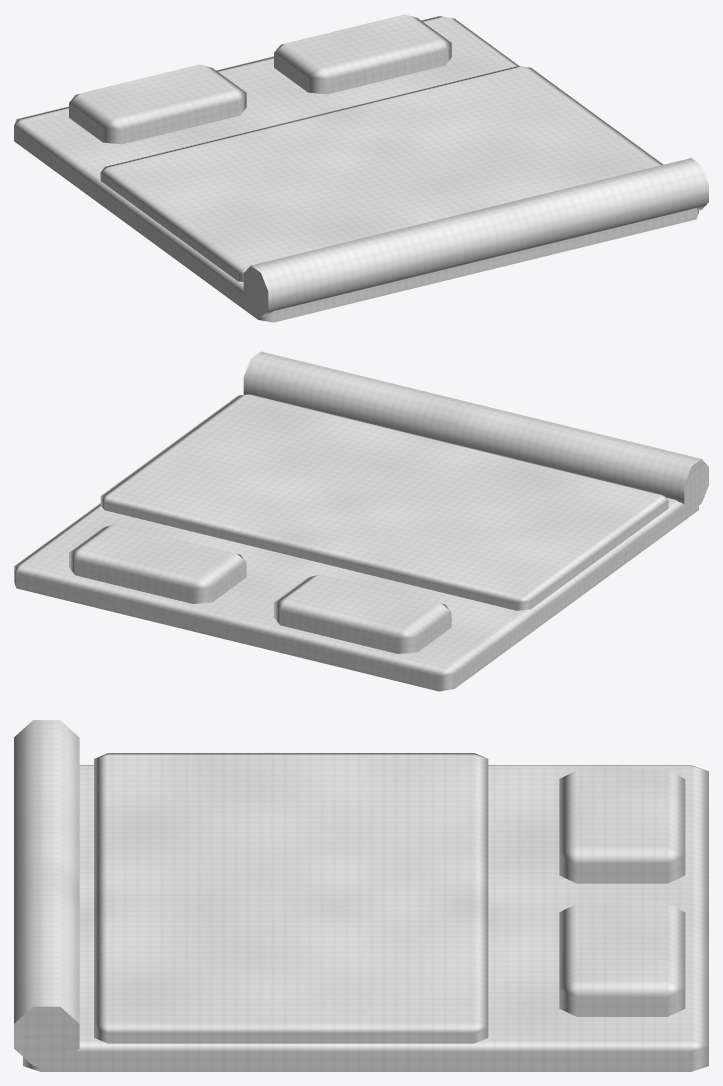
The model's file is bedroll_double.obj.
3 views of the same model, one above another, from view 1: azimuth 30°, elevation 25°; view 2: azimuth 150°, elevation 25°; view 3: azimuth 270°, elevation 25° (orthographic). The views are drawn at different scales.
Parts seen in each view (by area): view 1: blanket, fabric_mat, foot_roll, right_pillow, left_pillow; view 2: blanket, fabric_mat, foot_roll, left_pillow, right_pillow; view 3: blanket, fabric_mat, foot_roll, right_pillow, left_pillow.
Boxes of the visible parts, x1,y1,x2,y2 form: blanket: (100, 66, 663, 281); fabric_mat: (14, 16, 698, 322); foot_roll: (243, 158, 708, 317); right_pillow: (274, 14, 451, 94); left_pillow: (69, 64, 246, 144); blanket: (100, 394, 668, 610); fabric_mat: (14, 495, 698, 691); foot_roll: (243, 351, 708, 507); left_pillow: (274, 574, 451, 653); right_pillow: (69, 524, 246, 603); blanket: (94, 753, 488, 1043); fabric_mat: (23, 765, 708, 1071); foot_roll: (14, 720, 79, 1065); right_pillow: (559, 903, 685, 1016); left_pillow: (559, 770, 685, 883).
Bounding box in the file's own units: 1.72 × 0.1831 × 1.76.
